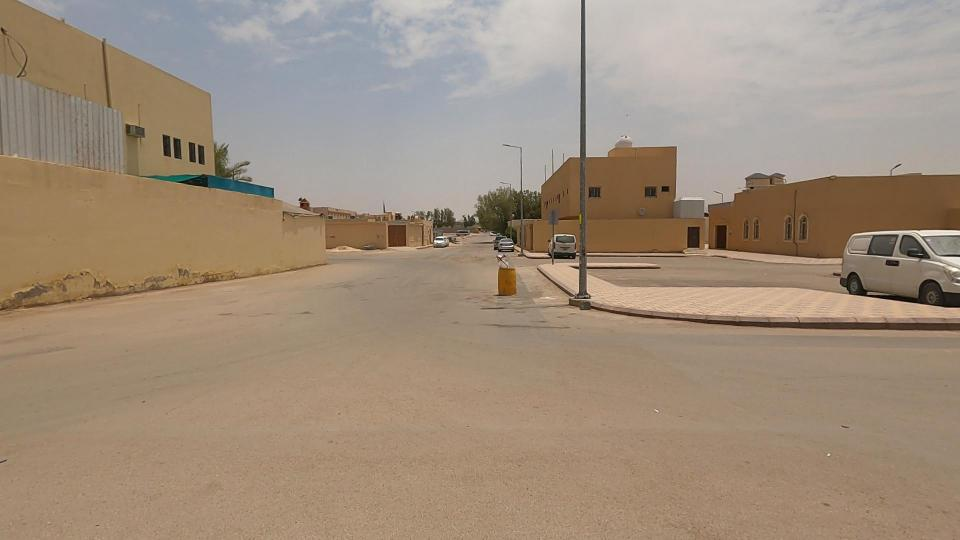GARBAGE: (476, 223, 532, 298)
UNKEPT_FACADE: (0, 233, 170, 329), (96, 229, 287, 314)
